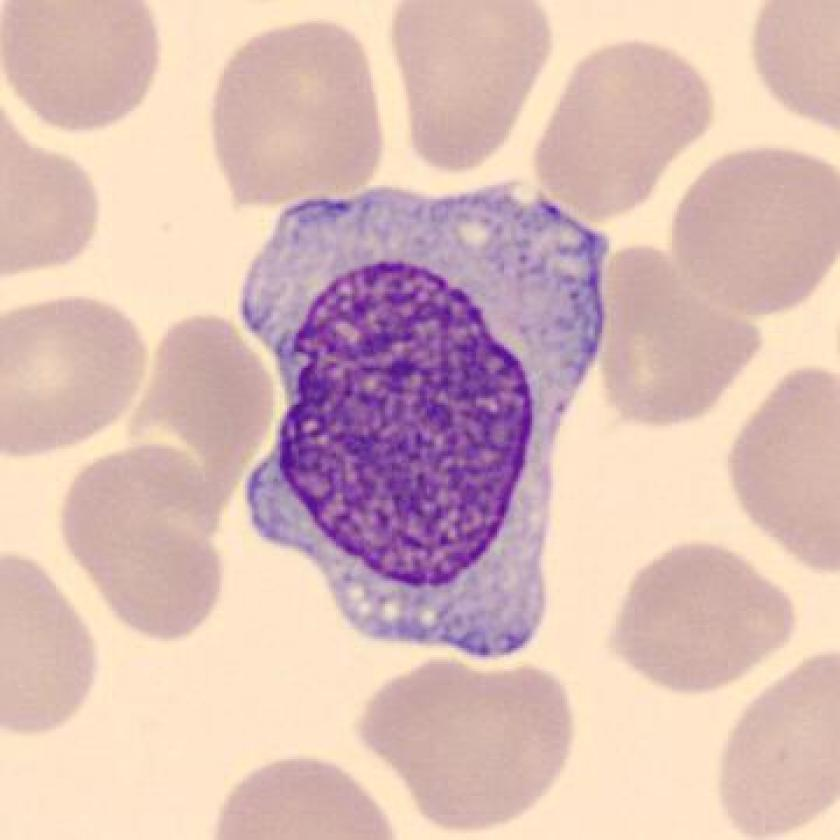monocyte: (211, 170, 636, 674)
